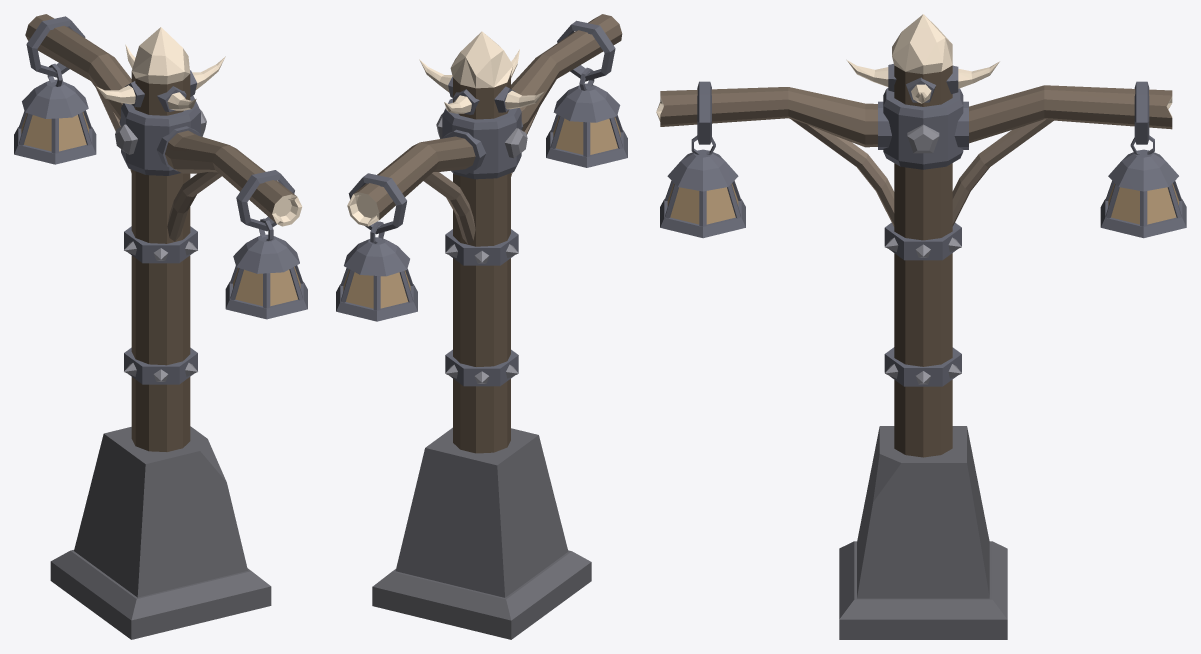
Rendered from lamp_2.fbx.
The picture shows the model from 3 angles, left to right: view 1: azimuth 30°, elevation 25°; view 2: azimuth 150°, elevation 25°; view 3: azimuth 270°, elevation 25°; orthographic projection. The views are drawn at different scales.
Parts seen in each view (by area): view 1: lamp_2; view 2: lamp_2; view 3: lamp_2.
Boxes of the visible parts, <box> form: lamp_2: <box>14,14,307,639</box>; lamp_2: <box>336,14,627,639</box>; lamp_2: <box>656,14,1186,639</box>.
Size of the model in its own units: 90.5 by 350 by 285.
